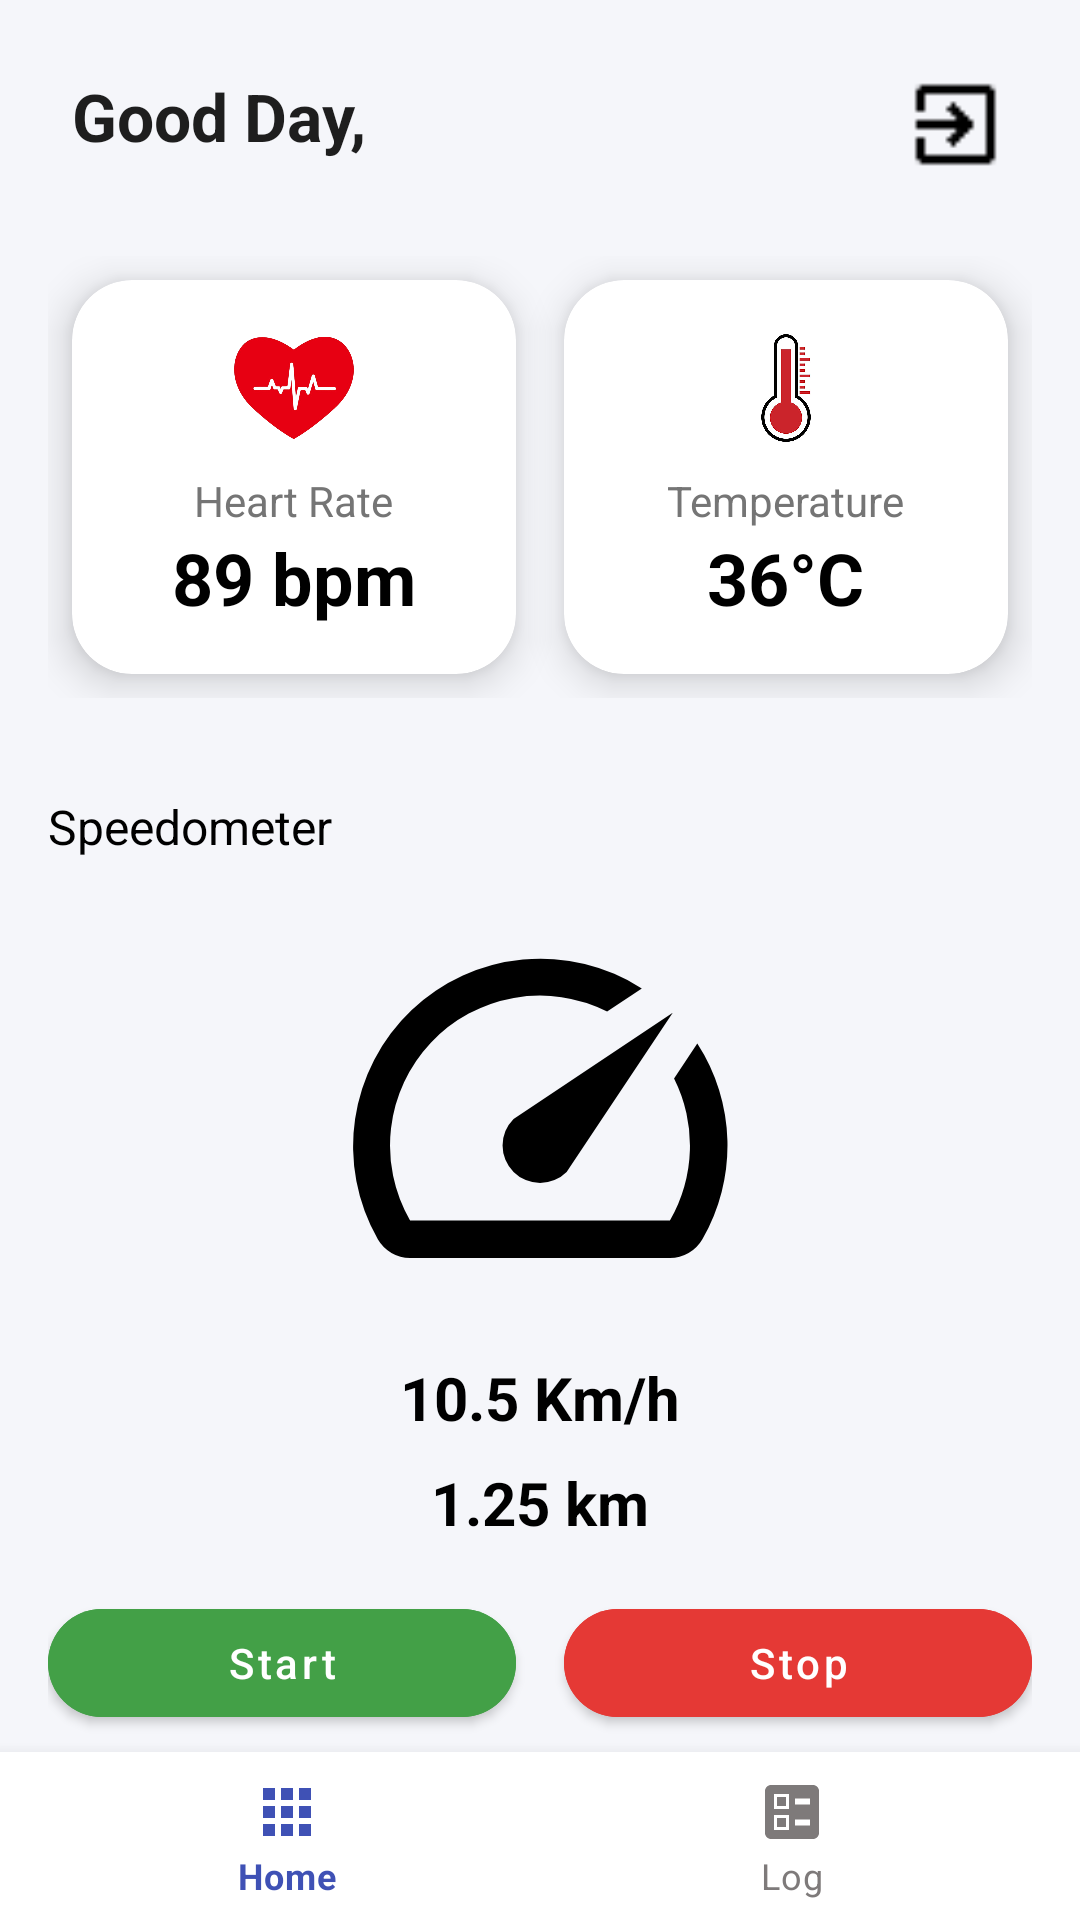

Icons on this 1080 × 1920 Android screen, each with its box as (x1, y1, x2, y2):
suhu: (761, 334, 811, 442)
